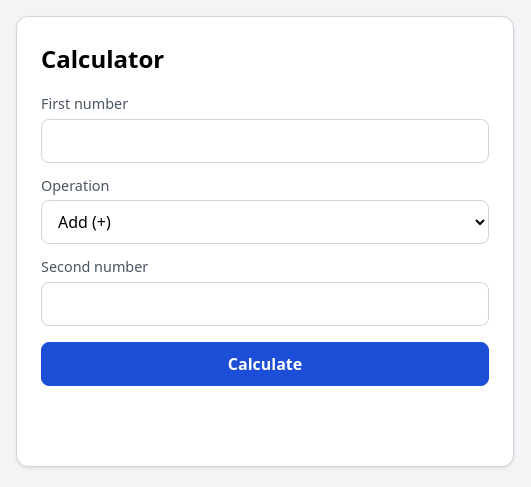
Test: sends multiply and formats the result
Select "Multiply (×)" in the dropdown labelled "Operation" at (265, 222), box x1=41 y1=200 x2=489 y2=244
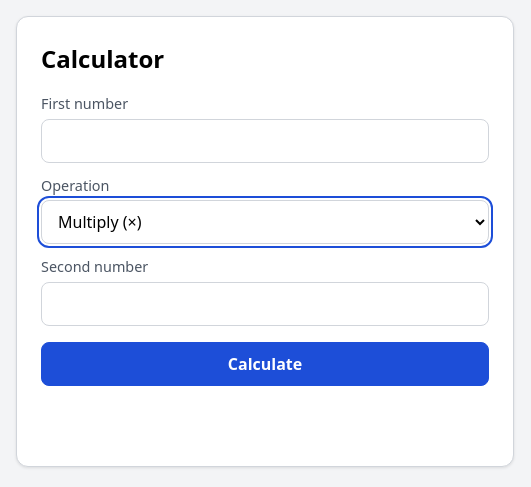
Type "2" into the field labelled "First number" at (265, 141), box x1=41 y1=119 x2=489 y2=163
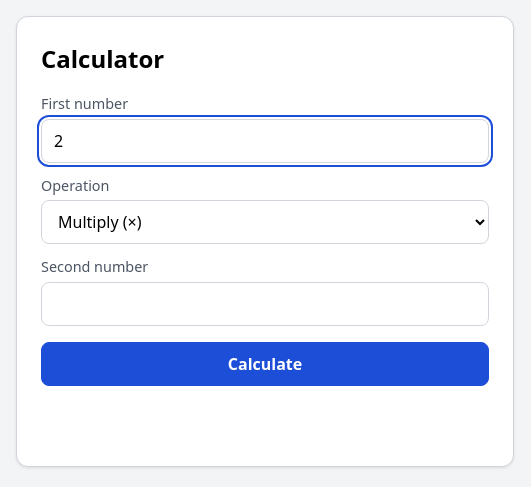
Type "3" into the field labelled "Second number" at (265, 304), box x1=41 y1=282 x2=489 y2=326
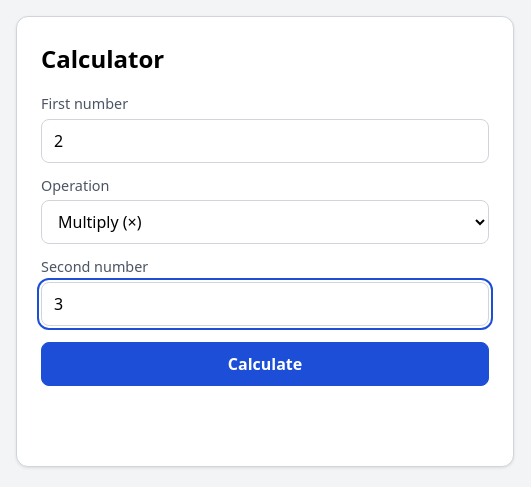
Click the button "Calculate" at (265, 364), box x1=41 y1=342 x2=489 y2=386
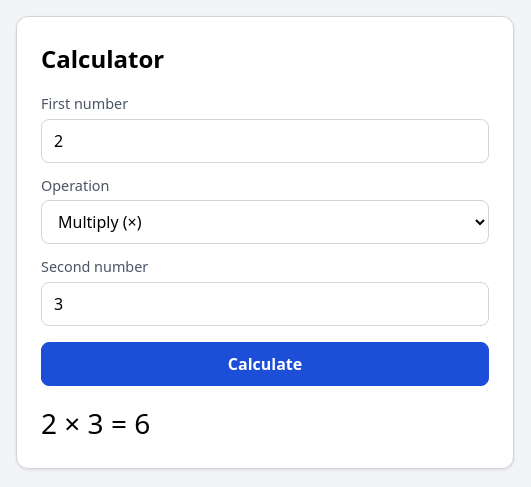
Now the text named "Result" reads "2 × 3 = 6", box x1=41 y1=404 x2=150 y2=442
